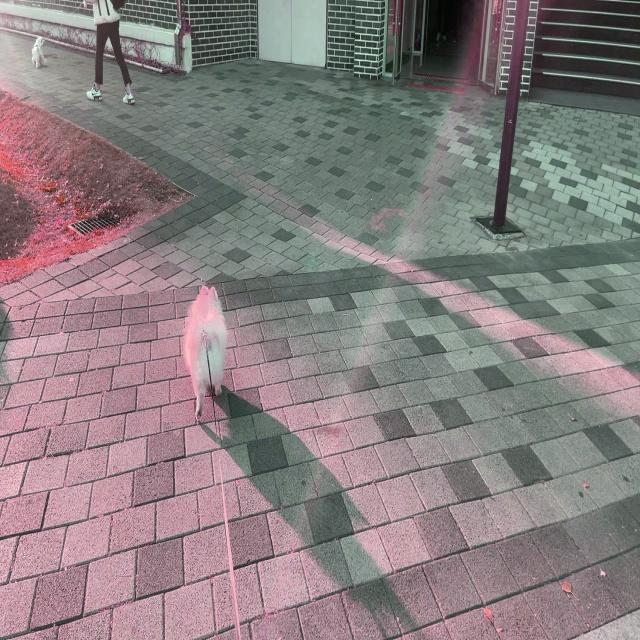Dog: (184, 285, 227, 423)
Leashed_Dog: (31, 1, 103, 70)
